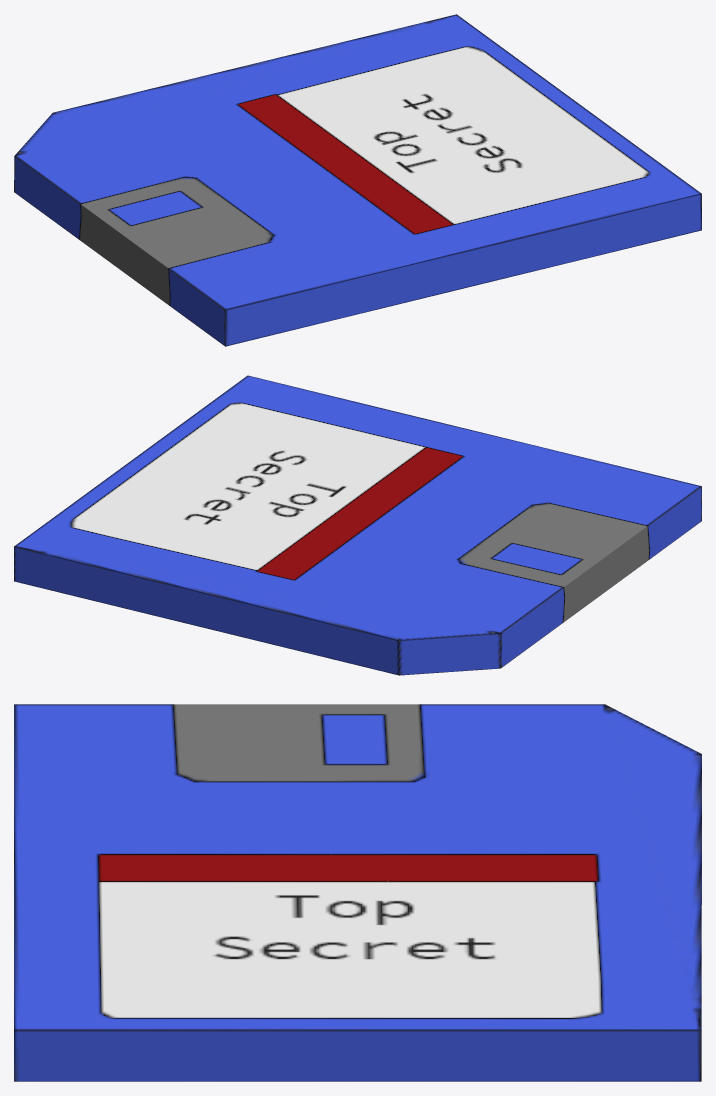
Rendered from floppy.fbx.
3 renders of one model, top to bottom at view 1: azimuth 30°, elevation 25°; view 2: azimuth 150°, elevation 25°; view 3: azimuth 270°, elevation 25°, orthographic. The views are drawn at different scales.
Visible parts, largest first — view 1: pCube1; view 2: pCube1; view 3: pCube1.
Part boxes in pixels (bbox=[...]): pCube1: bbox=[14, 14, 701, 346]; pCube1: bbox=[14, 375, 701, 675]; pCube1: bbox=[14, 704, 701, 1081].
Bounding box in the file's own units: 6.86 × 0.5038 × 6.12.
